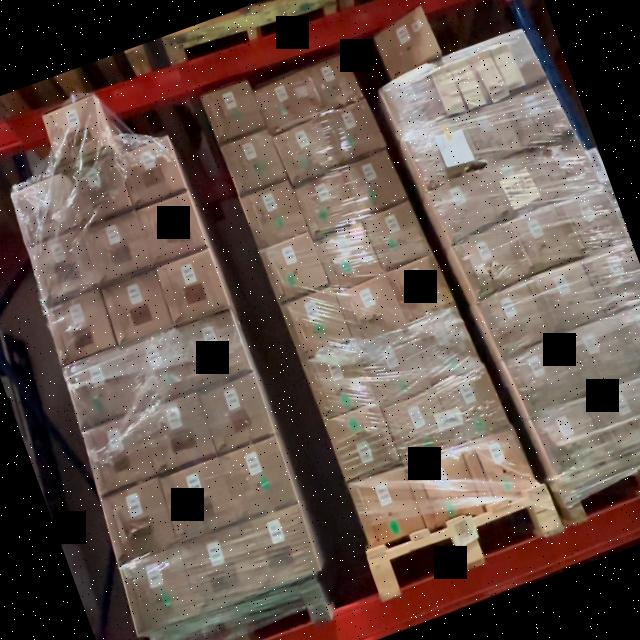box: (118, 548, 200, 634), (182, 525, 264, 611), (241, 505, 321, 590), (351, 466, 426, 548), (407, 450, 485, 528), (222, 438, 296, 518), (200, 374, 275, 452), (326, 403, 401, 481), (102, 479, 176, 558), (178, 310, 252, 388), (64, 351, 138, 428), (164, 462, 237, 538), (142, 394, 214, 470), (82, 416, 154, 492), (157, 250, 230, 324), (122, 330, 193, 406), (536, 401, 606, 478), (43, 95, 116, 168), (44, 290, 116, 364), (438, 368, 509, 443), (464, 429, 534, 504), (104, 271, 175, 344), (304, 344, 374, 418), (480, 284, 550, 358), (386, 391, 456, 464), (560, 322, 629, 396), (508, 342, 576, 417), (28, 228, 98, 300), (138, 193, 208, 263), (85, 212, 154, 282), (361, 331, 428, 403), (407, 118, 477, 186), (508, 206, 576, 276), (284, 286, 350, 358), (534, 262, 600, 334), (117, 137, 186, 205), (388, 254, 454, 323), (68, 157, 134, 226), (562, 186, 627, 256), (14, 176, 80, 244), (263, 234, 328, 303), (414, 311, 478, 381), (242, 180, 308, 247), (458, 228, 522, 296), (278, 118, 342, 184), (339, 277, 403, 343), (434, 175, 498, 241), (222, 128, 286, 192), (298, 172, 361, 236), (378, 12, 441, 76), (343, 151, 405, 216), (486, 152, 546, 218), (591, 378, 640, 458), (386, 71, 448, 134), (319, 225, 380, 289), (508, 85, 569, 149), (203, 79, 265, 141), (481, 33, 542, 96), (368, 204, 428, 268), (586, 244, 640, 315), (324, 101, 384, 164), (536, 140, 596, 200), (462, 102, 520, 163), (260, 73, 318, 131), (434, 54, 490, 114), (306, 55, 361, 112), (616, 304, 640, 374)
